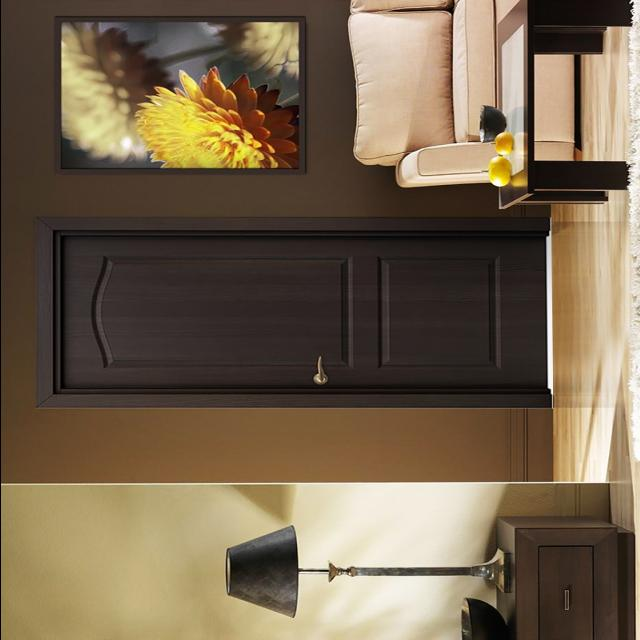close: (46, 218, 556, 402)
